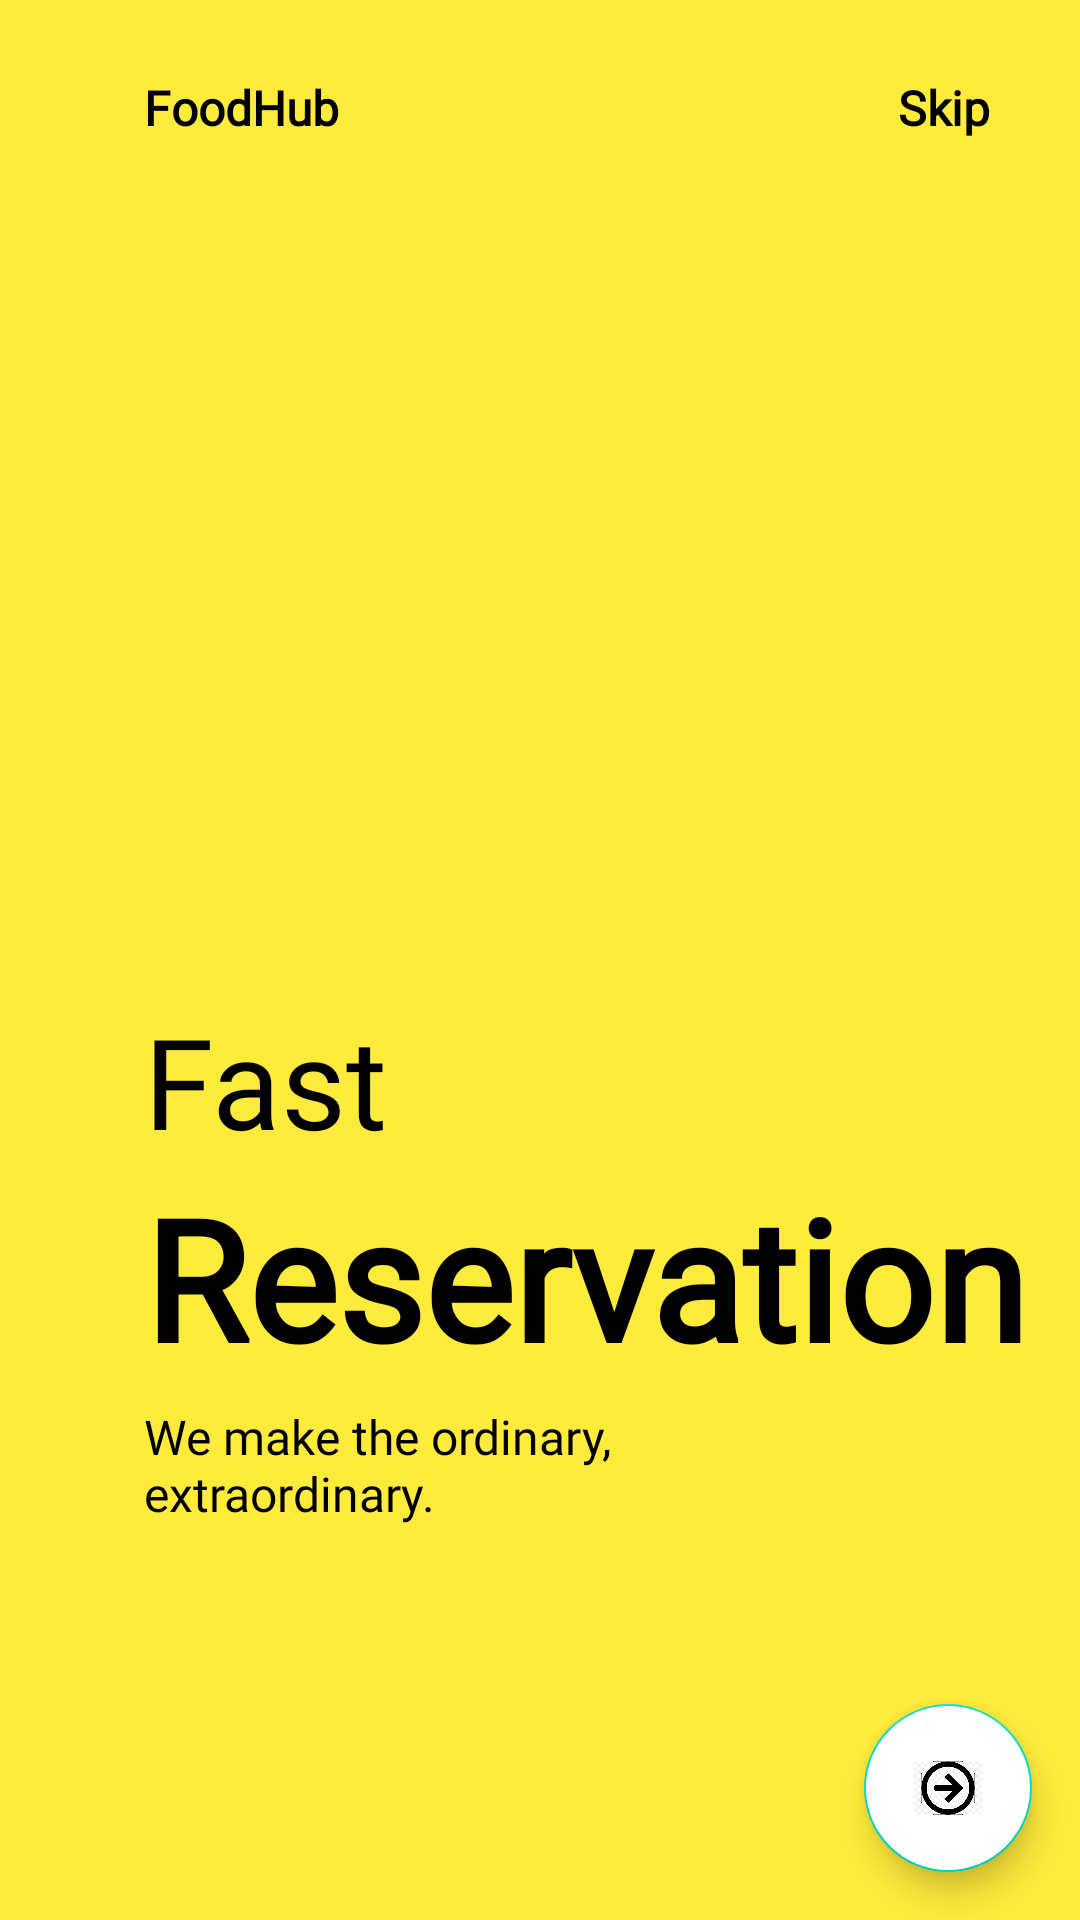

Named icons in this screenshot (1080x1920) and their bounding boxes, (x1=x1, y1=y1, x2=x2, y2=y2):
next: (x1=864, y1=1704, x2=1032, y2=1872)
